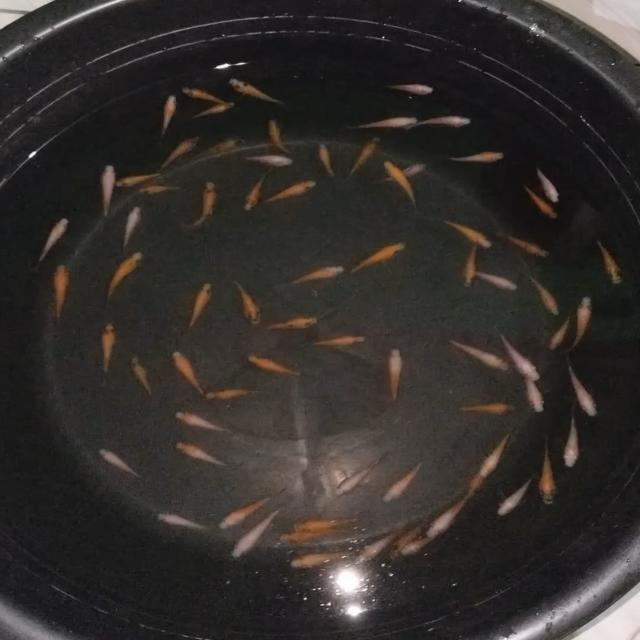nila: (216, 488, 286, 532), (378, 452, 430, 507), (332, 449, 388, 499), (229, 508, 282, 560), (494, 332, 546, 383), (442, 336, 514, 372), (346, 240, 408, 280), (170, 438, 244, 470), (30, 216, 70, 272), (348, 529, 404, 568), (436, 216, 494, 252), (519, 272, 563, 318), (424, 496, 472, 538), (105, 251, 144, 302), (225, 77, 288, 108), (170, 350, 209, 400), (95, 444, 148, 480), (340, 135, 383, 179), (480, 428, 516, 480), (566, 363, 599, 419), (388, 516, 430, 560), (467, 454, 508, 498), (174, 408, 238, 436), (495, 475, 536, 518), (382, 162, 418, 210), (520, 354, 546, 420), (182, 181, 216, 231), (566, 294, 594, 354), (152, 510, 216, 536), (292, 513, 361, 537), (276, 524, 358, 544), (243, 352, 305, 378), (186, 280, 216, 332), (240, 167, 276, 210), (592, 237, 624, 285), (282, 266, 344, 290), (160, 134, 200, 171), (538, 436, 558, 509), (374, 160, 432, 185), (250, 314, 322, 334), (402, 526, 447, 557), (264, 177, 315, 204), (501, 232, 550, 260), (232, 278, 260, 327), (51, 261, 70, 333), (522, 186, 562, 220), (288, 550, 356, 570), (458, 234, 481, 292), (342, 115, 420, 132), (470, 267, 520, 293), (564, 406, 584, 470), (194, 135, 247, 158), (130, 353, 157, 398), (176, 84, 232, 105), (98, 322, 116, 385), (534, 164, 562, 204), (544, 314, 572, 354), (452, 401, 520, 417), (120, 205, 142, 252), (236, 150, 293, 168), (156, 92, 177, 140), (182, 101, 237, 119), (268, 118, 294, 156), (408, 115, 473, 130), (305, 335, 368, 350), (202, 387, 261, 403), (100, 163, 116, 221), (388, 347, 404, 405), (444, 148, 506, 162), (112, 172, 166, 188), (315, 141, 337, 179), (384, 81, 438, 95), (136, 184, 183, 194)
